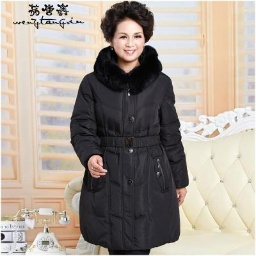face: (101, 4, 155, 64)
